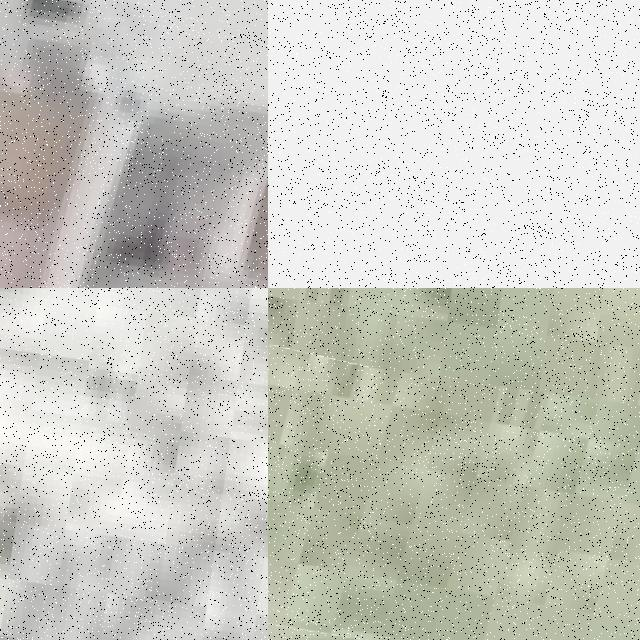0: (268, 344, 640, 640)
drone: (0, 0, 268, 288)
